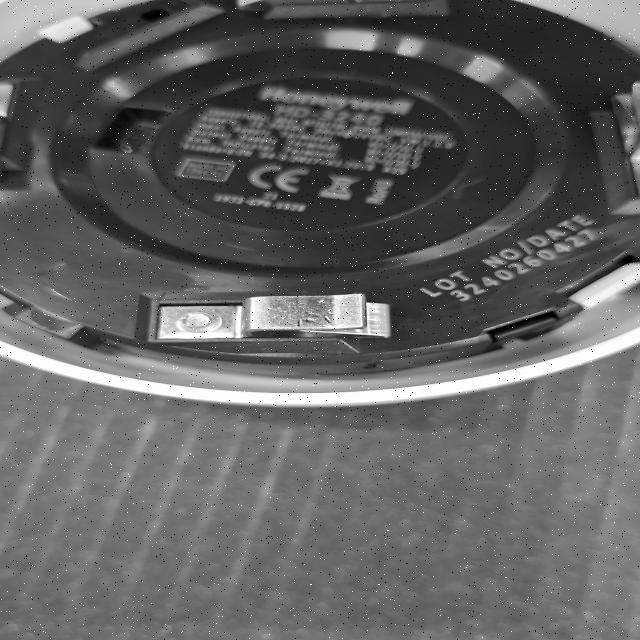yayli: (137, 282, 397, 357)
